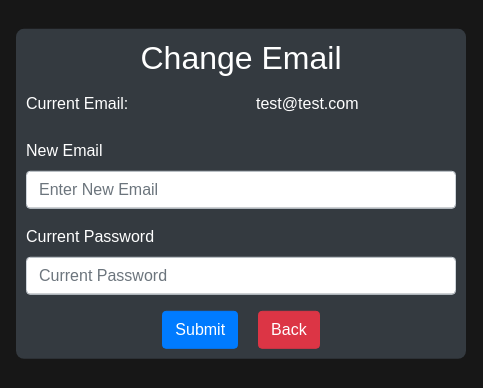
ChangeProfileInfo › Functionality › Change Email › should show errors in reauth cred
Type "newName" into the field labelled "New Email".
click(241, 190); type("newName")  # box [26, 171, 456, 209]
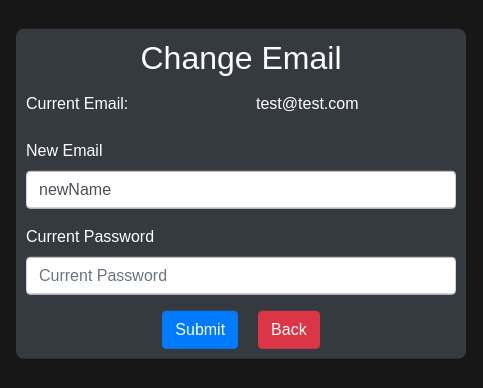
Click the button "Submit".
click(200, 330)  # box [162, 311, 238, 349]
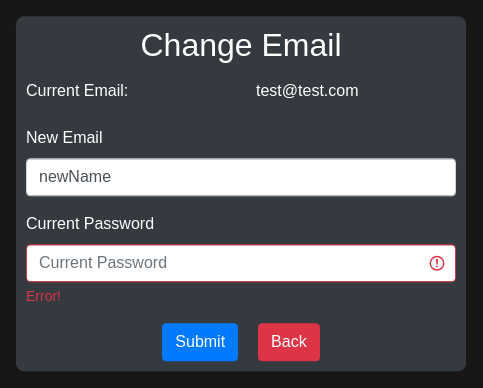
Result: the text "Error!" is shown at [26, 289, 61, 305]
